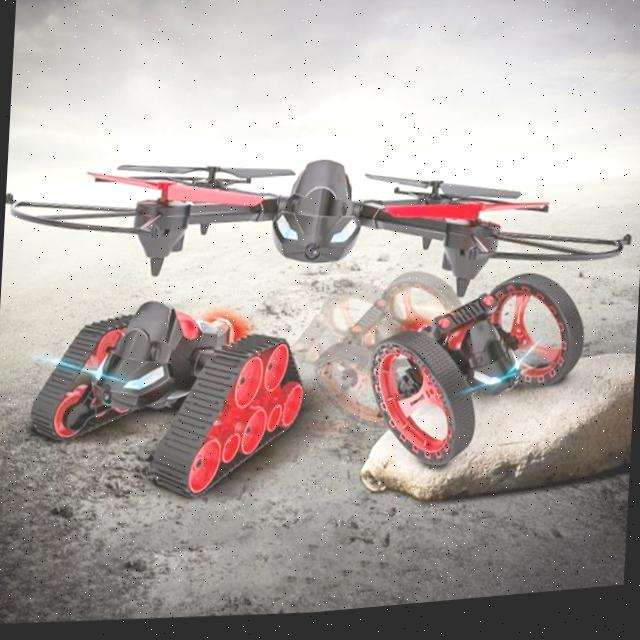drone: (21, 103, 640, 348)
